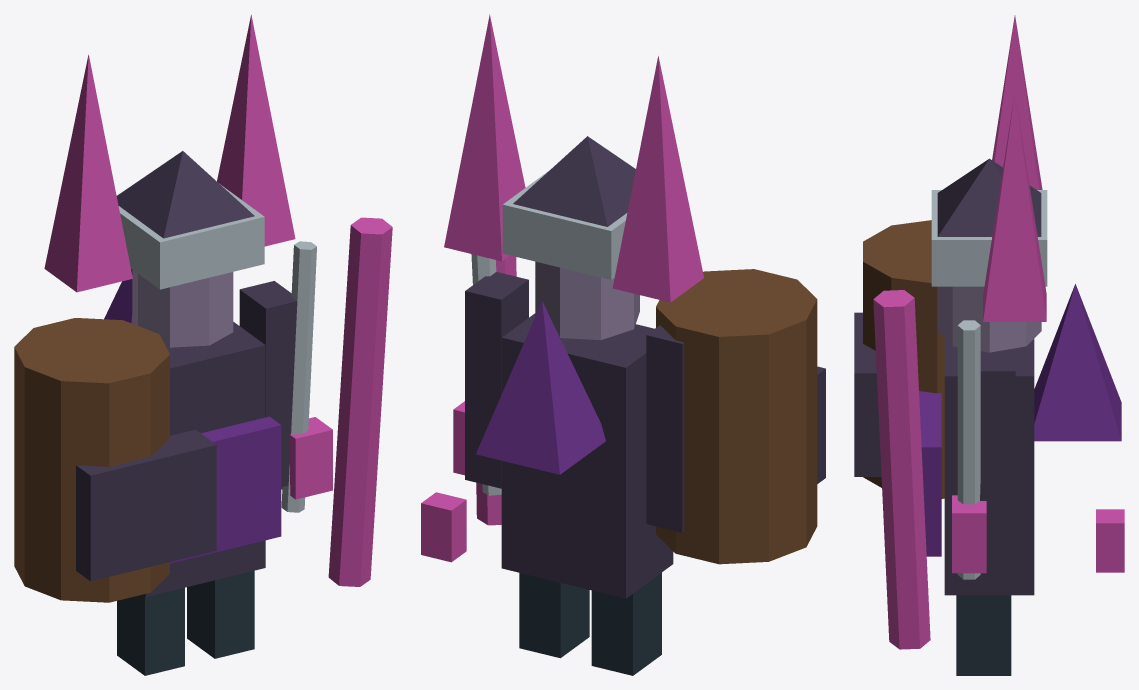
Rendered from swordsman.obj.
3 renders of one model, left to right at view 1: azimuth 30°, elevation 25°; view 2: azimuth 150°, elevation 25°; view 3: azimuth 270°, elevation 25°, orthographic. The views are drawn at different scales.
Parts seen in each view (by area): view 1: infantry; view 2: infantry; view 3: infantry.
Boxes of the visible parts, x1,y1,x2,y2 form: infantry: (14, 15, 392, 675); infantry: (421, 14, 825, 675); infantry: (854, 15, 1124, 675).
Bounding box in the file's own units: 1.21 × 2.07 × 0.85.
